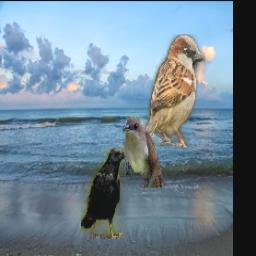Crow: (80, 147, 129, 239)
Cuckoo: (122, 117, 163, 189)
Sparrow: (139, 34, 205, 147)
